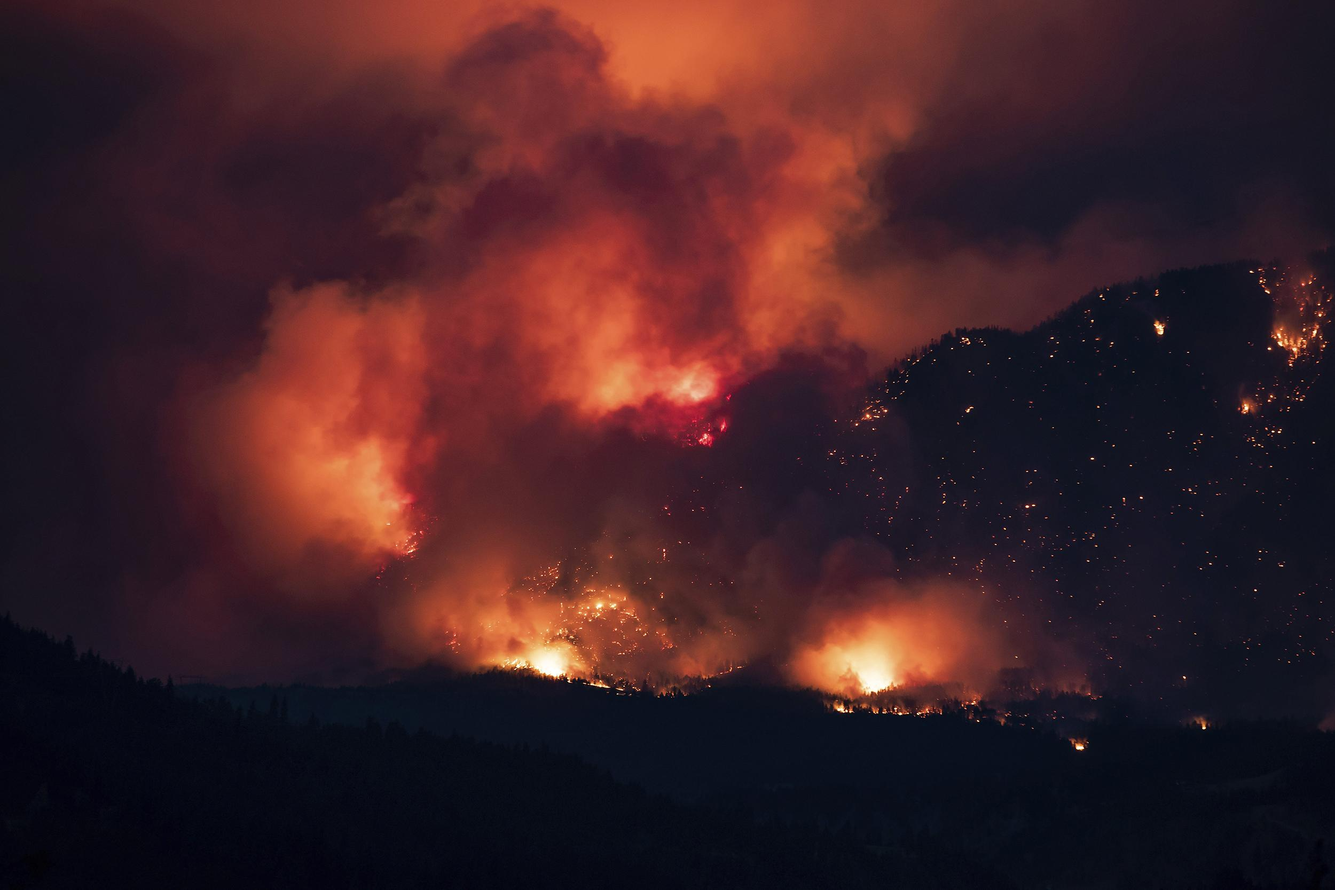fire: (748, 525, 1163, 806), (318, 489, 718, 746), (779, 306, 1175, 513), (1166, 250, 1329, 407)
